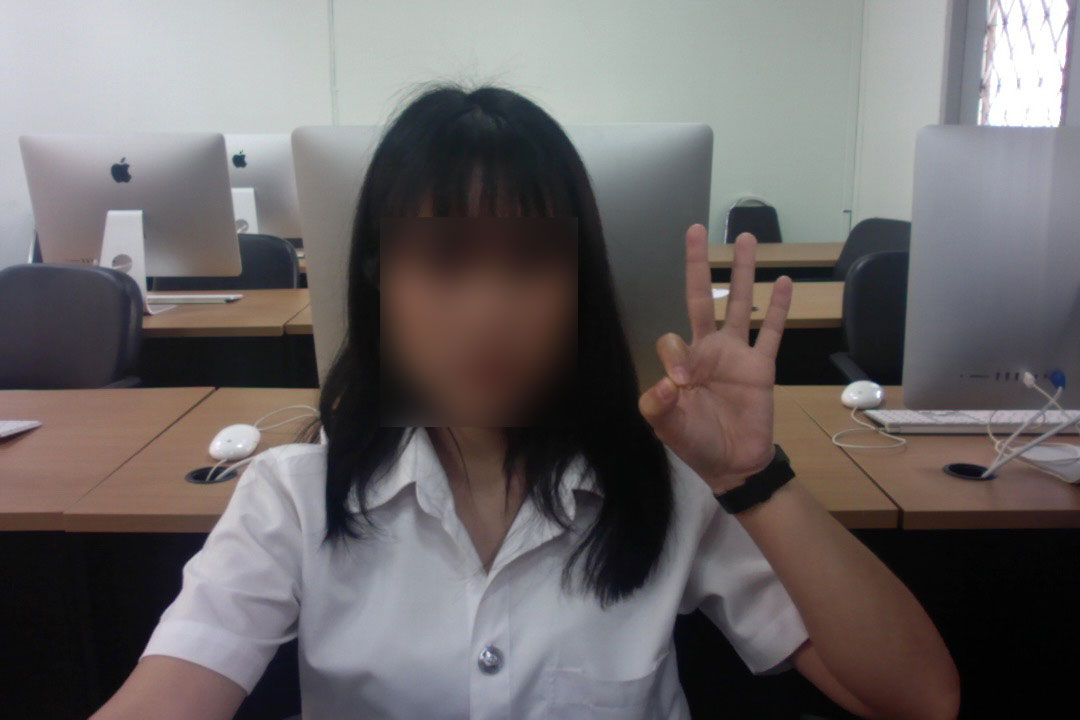for: (600, 187, 827, 521)
